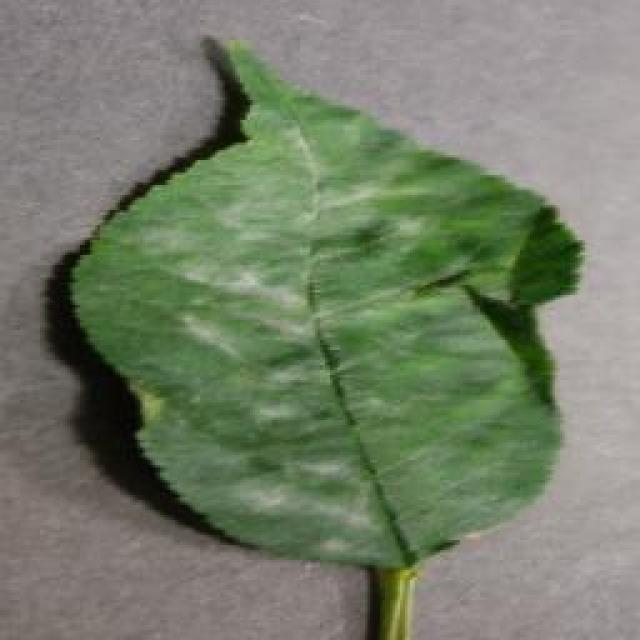Cherry___Powdery_mildew: (52, 22, 600, 640)
